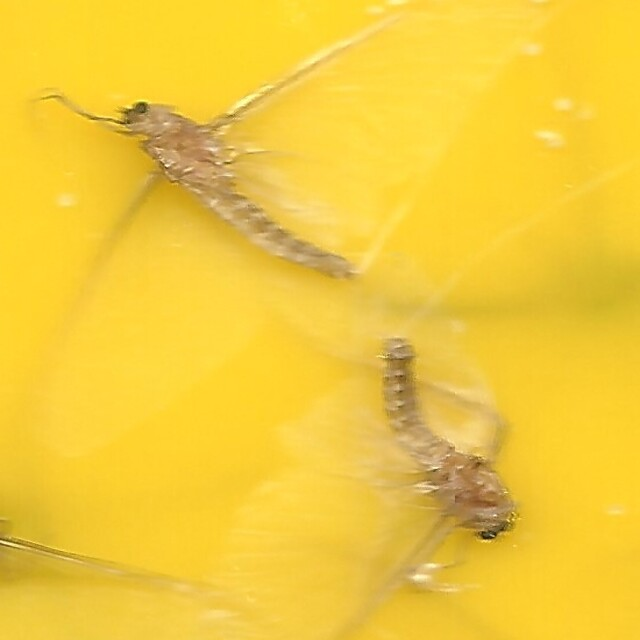Ephemeroptera: (116, 97, 357, 280), (378, 338, 524, 543)
